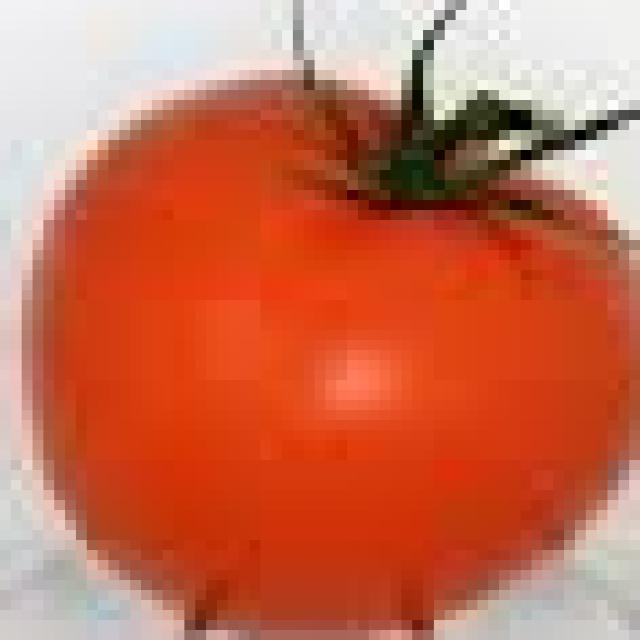Healthy: (22, 44, 634, 640)
